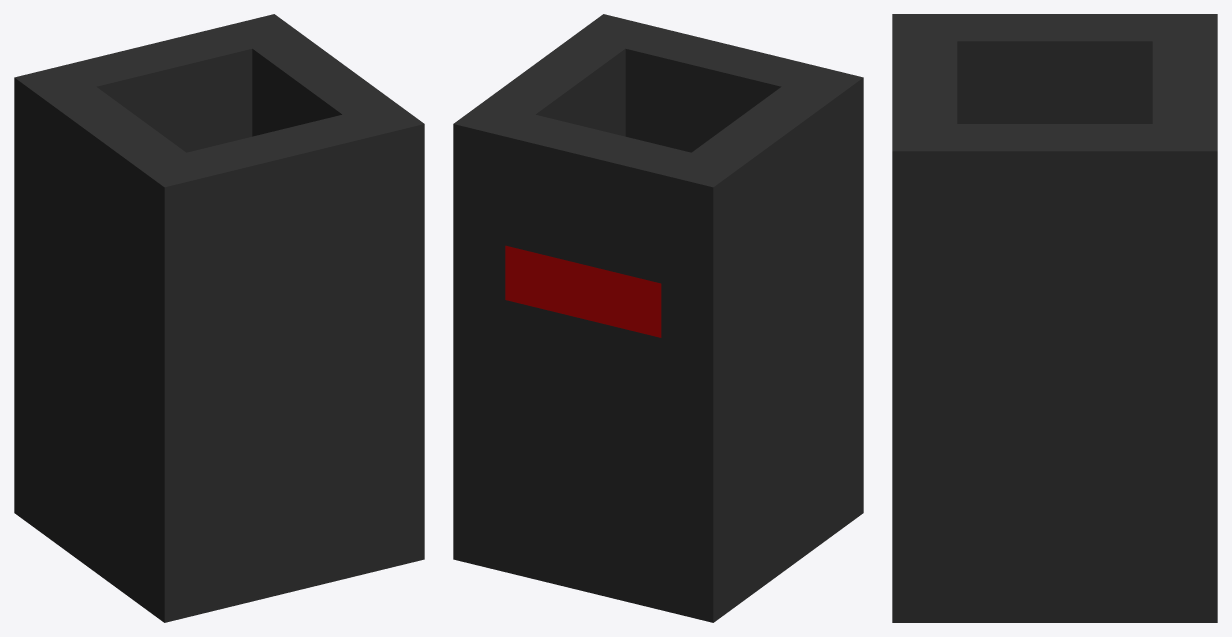
File: Trash.obj
3 views of the same model, side by side, from view 1: azimuth 30°, elevation 25°; view 2: azimuth 150°, elevation 25°; view 3: azimuth 270°, elevation 25° (orthographic). The views are drawn at different scales.
Visible parts, largest first — view 1: 立方体.122; view 2: 立方体.122; view 3: 立方体.122.
Boxes of the visible parts, x1,y1,x2,y2 form: 立方体.122: (14, 14, 424, 622); 立方体.122: (453, 14, 863, 622); 立方体.122: (892, 14, 1217, 622).
Bounding box in the file's own units: 5 × 8 × 5.
